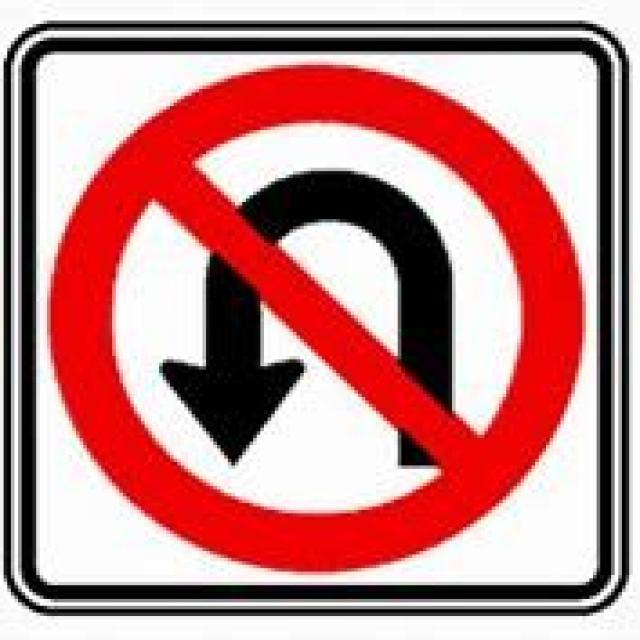u turn prohibited: (49, 62, 586, 572)
